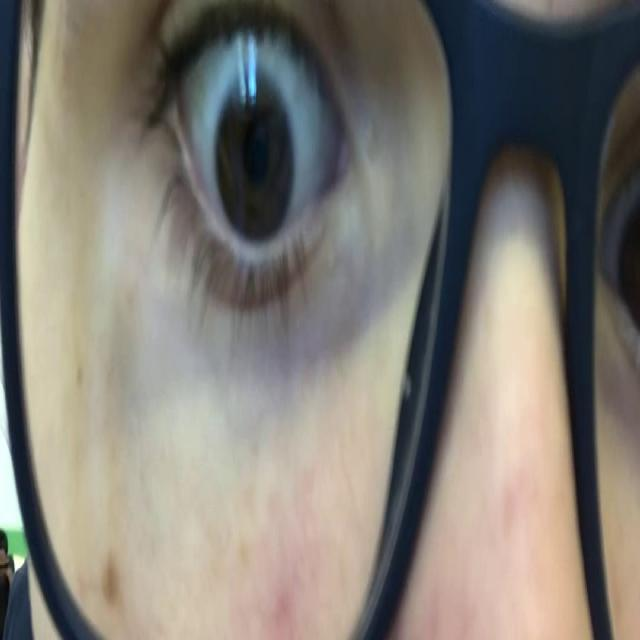eye: (186, 21, 342, 246)
gaze: (216, 70, 296, 242)
